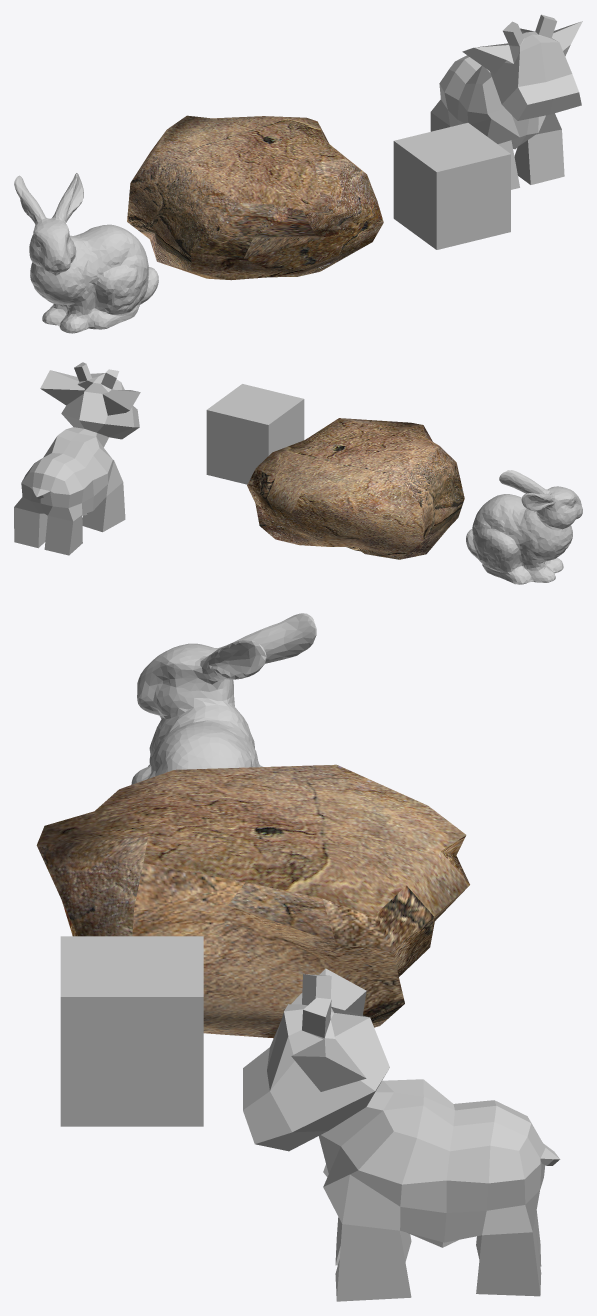
3 views of the same model, one above another, from view 1: azimuth 30°, elevation 25°; view 2: azimuth 150°, elevation 25°; view 3: azimuth 270°, elevation 25° (orthographic). The views are drawn at different scales.
Parts seen in each view (by area): view 1: Cube_Cube.002, spot_control_mesh, bunny.002, cube.001; view 2: Cube_Cube.002, spot_control_mesh, bunny.002, cube.001; view 3: Cube_Cube.002, spot_control_mesh, cube.001, bunny.002.
Boxes of the visible parts, left/top/right/bottom form: Cube_Cube.002: left=127, top=115, right=383, bottom=280; spot_control_mesh: left=430, top=14, right=582, bottom=189; bunny.002: left=14, top=173, right=158, bottom=333; cube.001: left=393, top=123, right=510, bottom=249; Cube_Cube.002: left=247, top=418, right=464, bottom=559; spot_control_mesh: left=14, top=362, right=140, bottom=555; bunny.002: left=466, top=470, right=582, bottom=584; cube.001: left=206, top=384, right=304, bottom=484; Cube_Cube.002: left=36, top=764, right=469, bottom=1038; spot_control_mesh: left=243, top=968, right=560, bottom=1301; cube.001: left=60, top=936, right=203, bottom=1126; bunny.002: left=131, top=613, right=316, bottom=784.
Size of the model in its own units: 0.6036 by 0.1659 by 0.2784.
4 materials, 1 textured.
